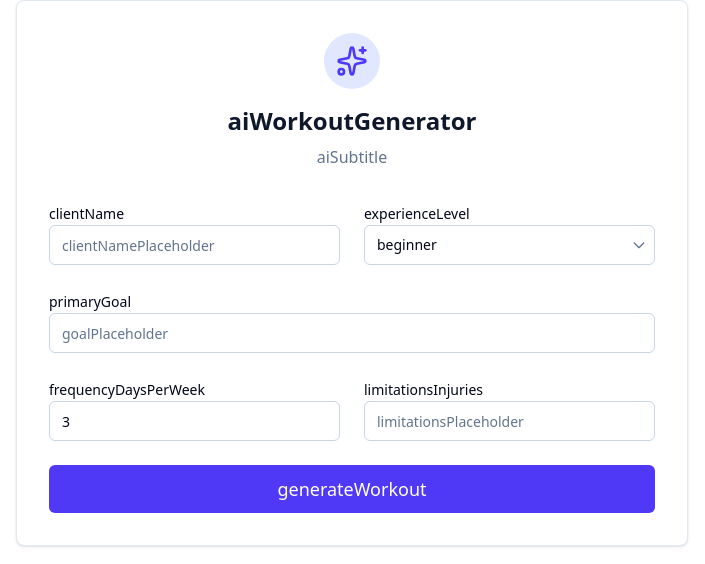
Test: AIWorkoutGenerator › loading state shown during generation
This screenshot has width=705, height=564.
Step 1. Type "Test Client" into the field labelled "clientName" → {"x": 194, "y": 245}, box [49,225,340,265]
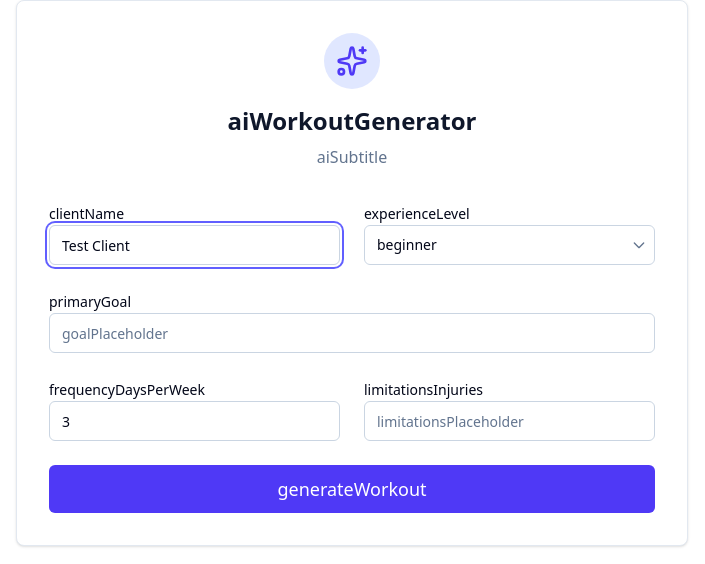
Step 2. Type "Strength" into the field labelled "primaryGoal" → {"x": 352, "y": 333}, box [49,313,655,353]
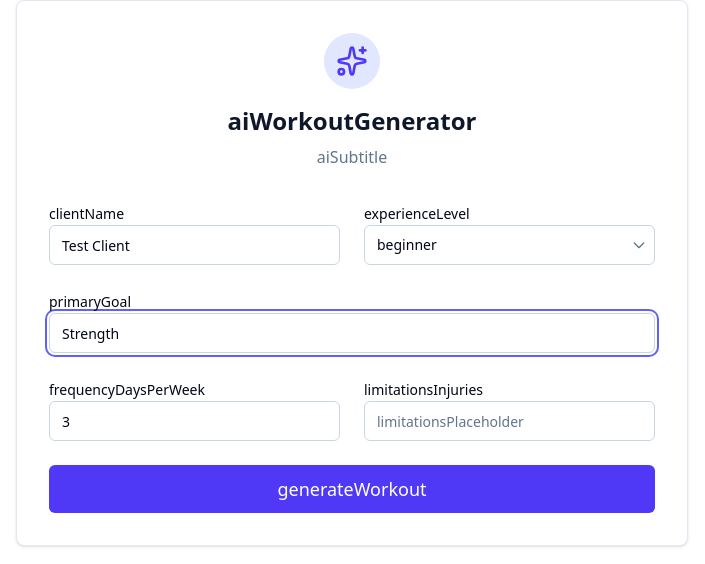
Step 3. Click the button "generateWorkout" → {"x": 352, "y": 489}, box [49,465,655,513]
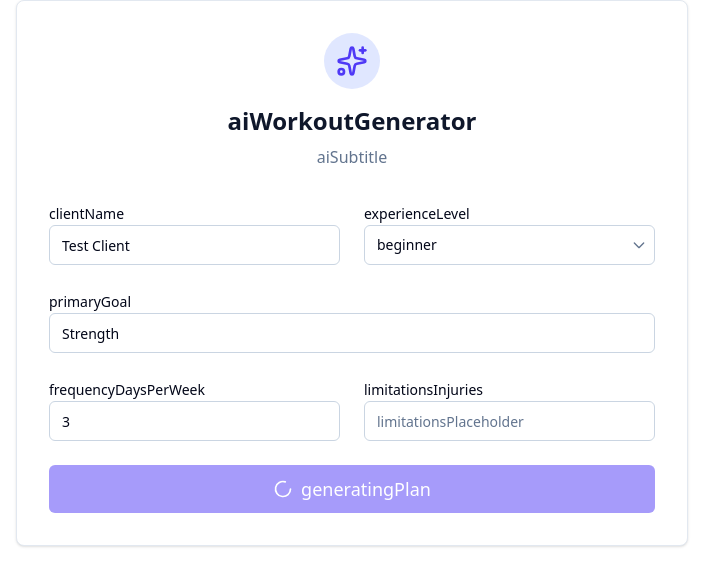
Check: the button "generatingPlan" is shown, box [49,465,655,513]
